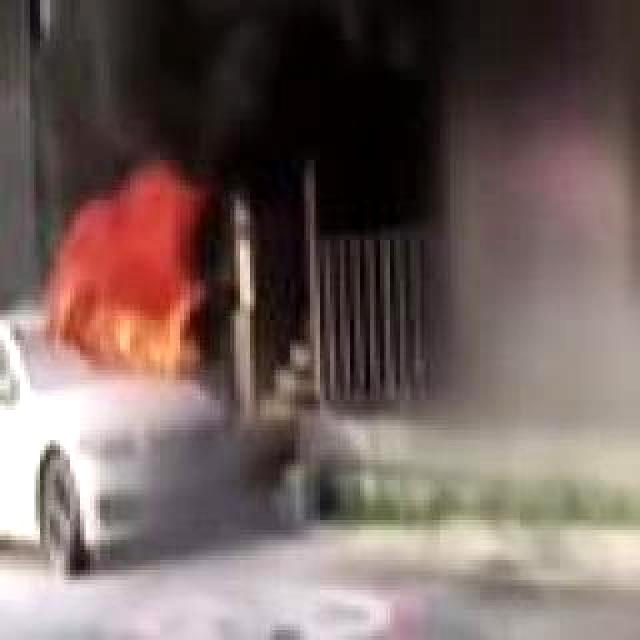fire: (68, 180, 194, 368)
